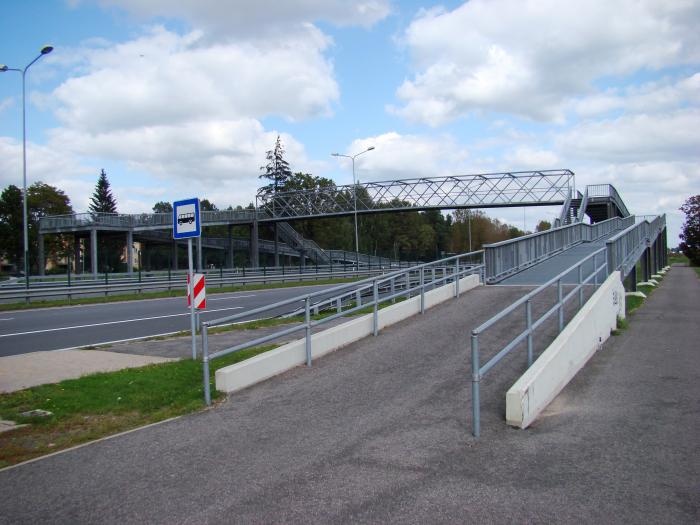bridge: (37, 167, 612, 298)
